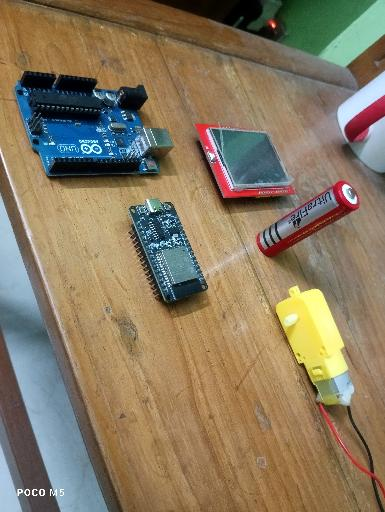Arduino: (13, 69, 175, 178)
Battery: (256, 181, 361, 259)
Display: (193, 121, 296, 200)
Esp32: (128, 197, 208, 304)
Motor: (275, 285, 356, 405)
